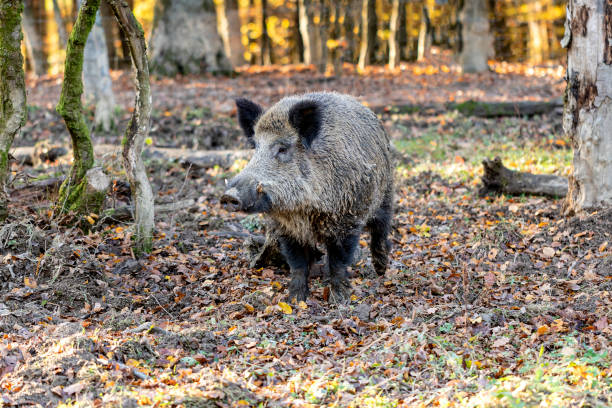pig: (207, 93, 404, 287)
